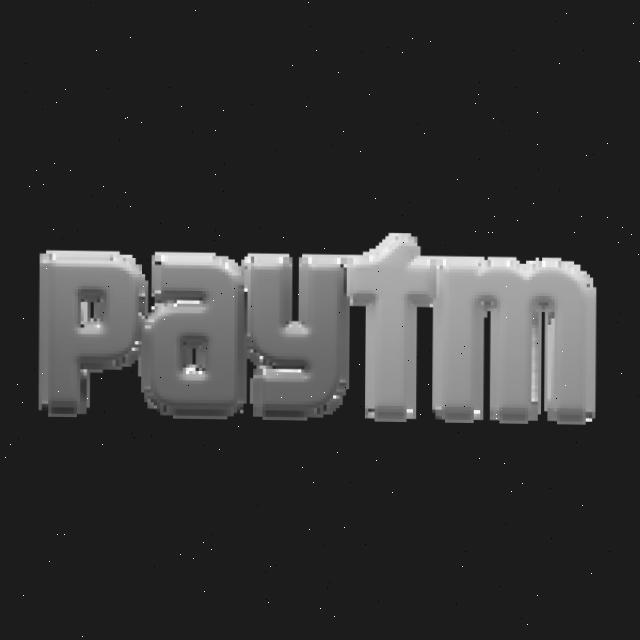fully_visible: (30, 221, 607, 439)
